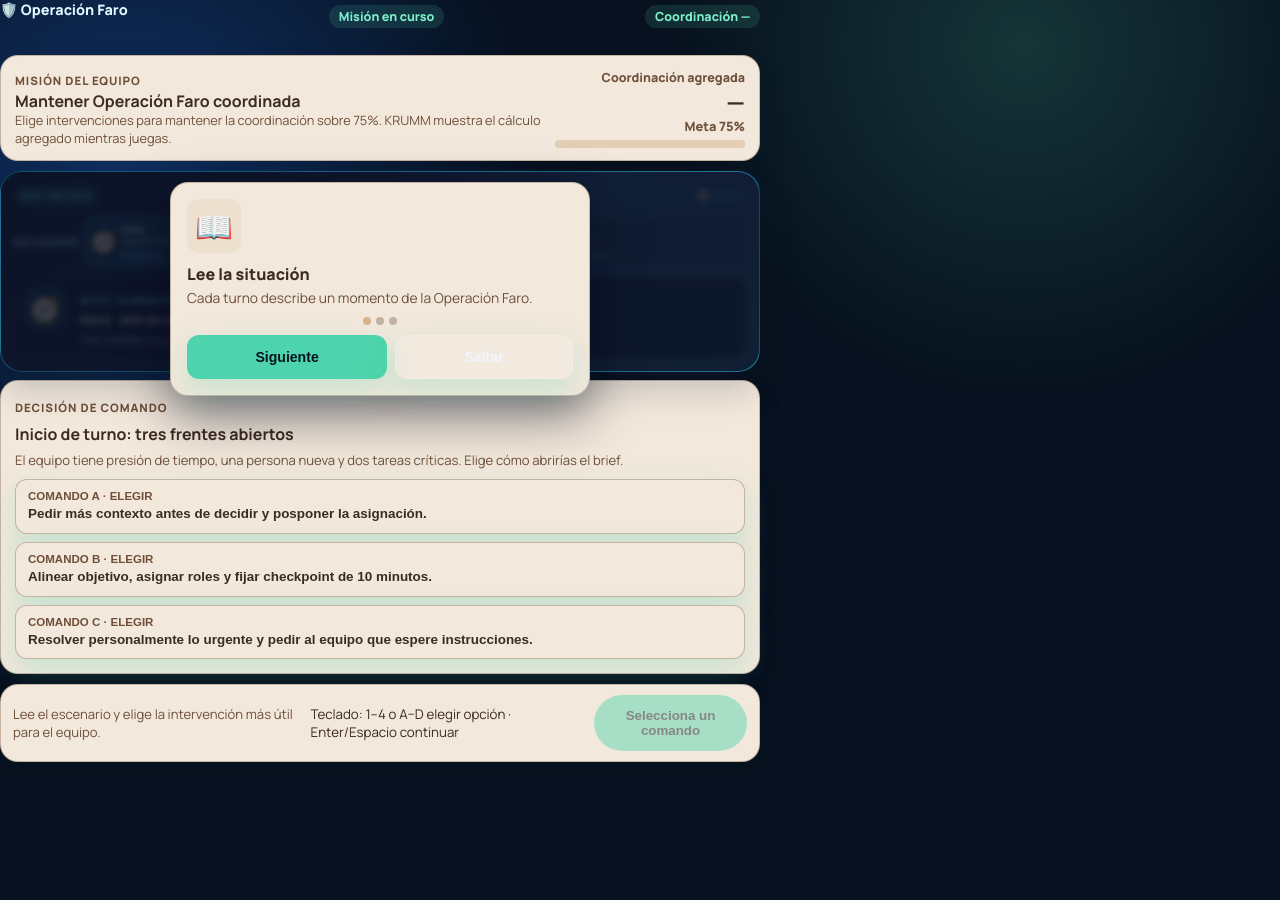
Test: TeamCoordinationPostulationTask › renders a structured team brief without behind-panel (H2) and no free-text input
Click the button "Saltar": point(484, 358) left=395, top=336, right=573, bottom=380
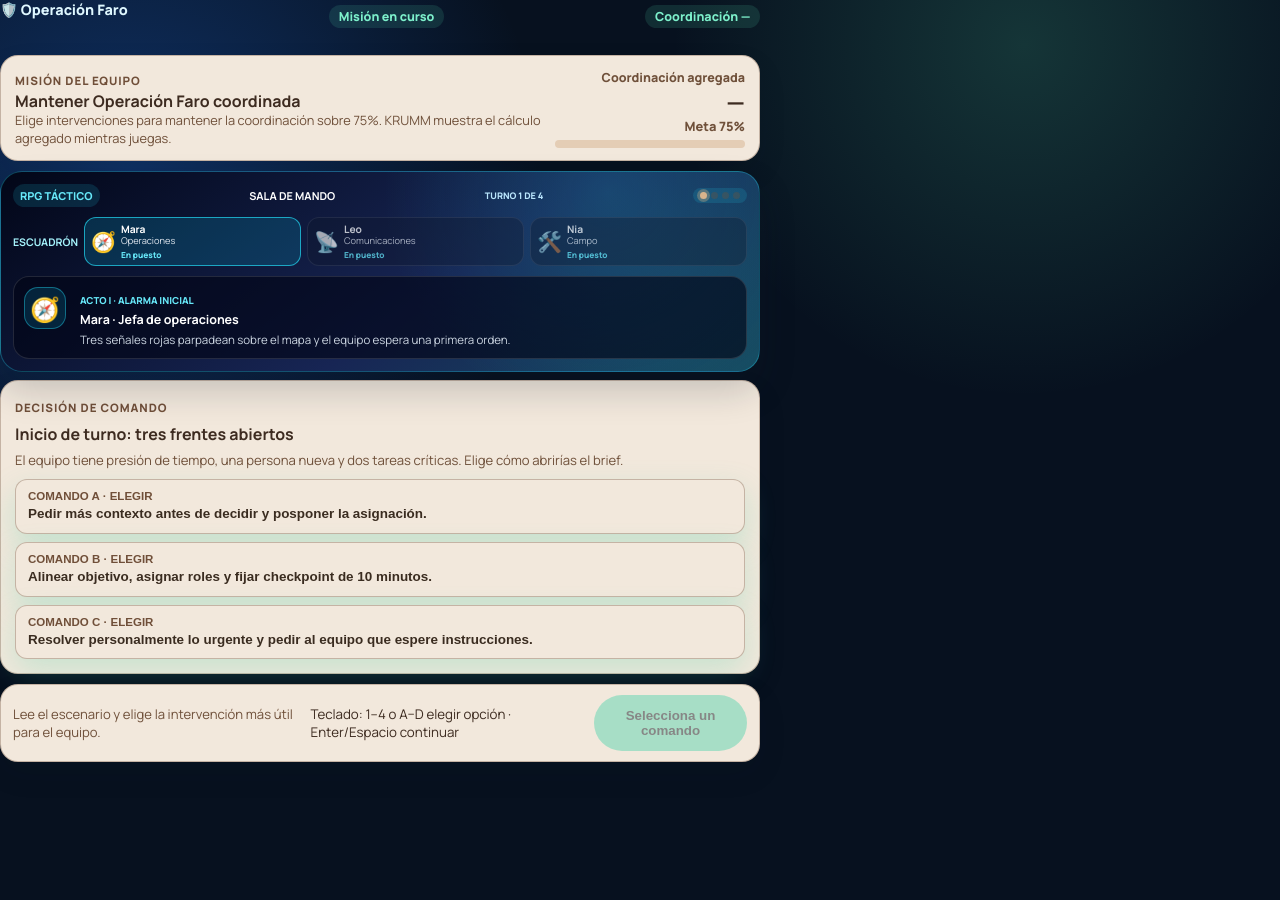
Expected: the heading "🛡️ Operación Faro" is shown, left=0, top=0, right=128, bottom=19
Expected: the element named "Comando de crisis RPG" is shown, left=0, top=171, right=760, bottom=674
Click the button "Alinear objetivo": point(380, 569) left=15, top=542, right=745, bottom=597
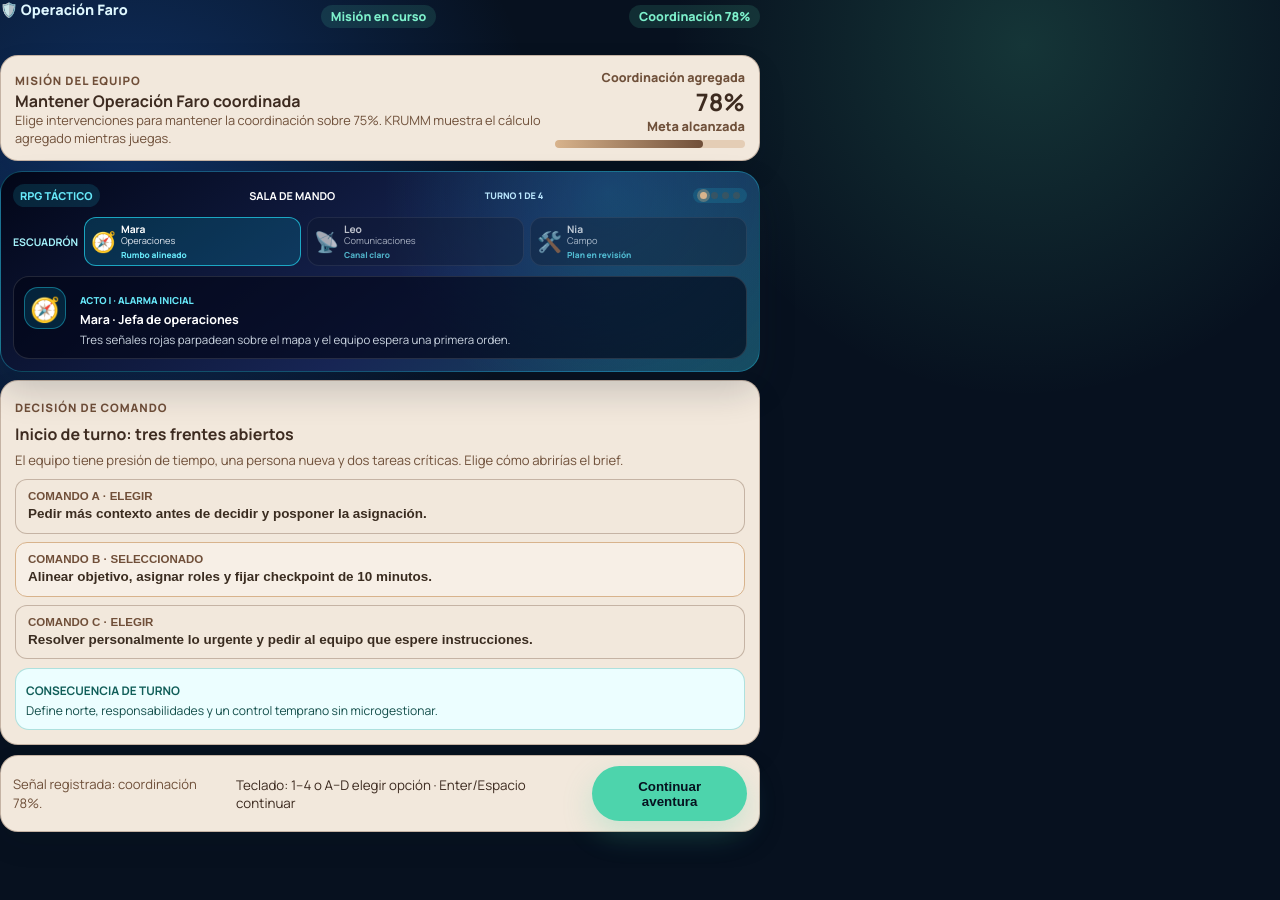
Result: the text "Consecuencia de turno" is shown at left=26, top=682, right=180, bottom=700
Result: the text "Señal registrada: coordinación 78%." is shown at left=13, top=775, right=224, bottom=812
Result: the element named "Mara, Operaciones, Rumbo alineado" is shown at left=84, top=217, right=301, bottom=266
